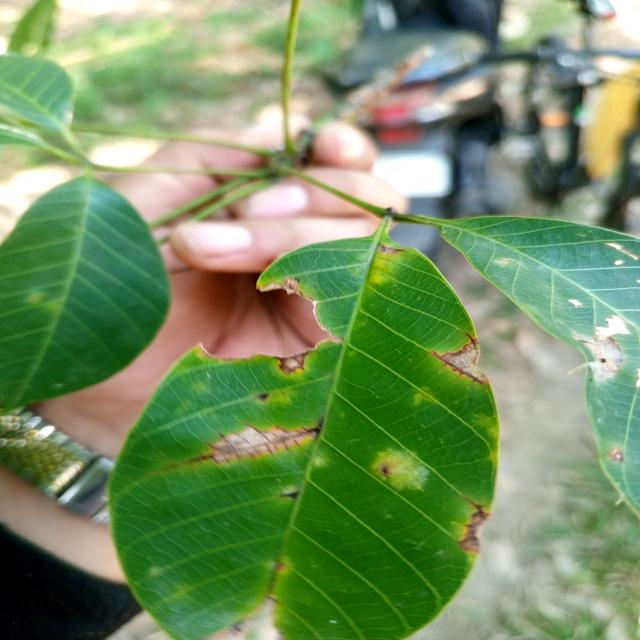Corynespora: (169, 419, 324, 470), (430, 350, 480, 384), (465, 334, 478, 349)
Leaf-Blight: (450, 341, 489, 383), (462, 514, 488, 552), (278, 352, 307, 376)
